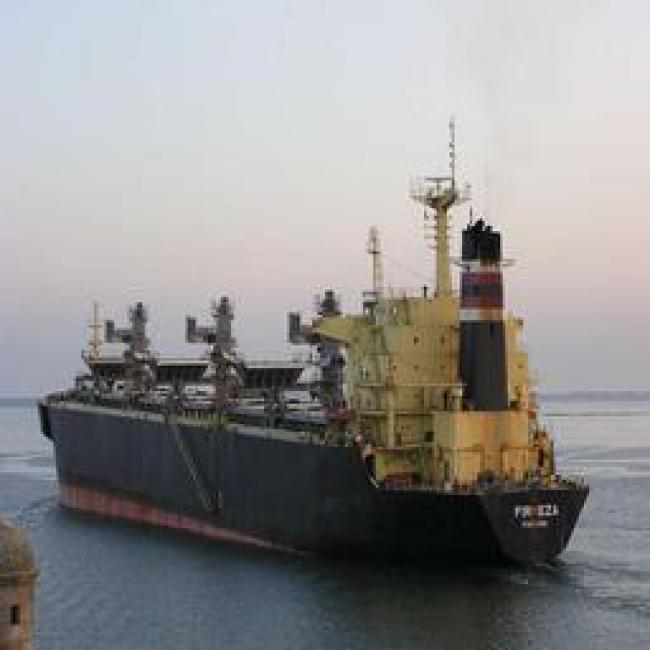Ship: (17, 312, 605, 575)
